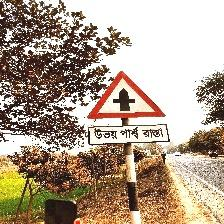Crossroad: (88, 69, 170, 148)
